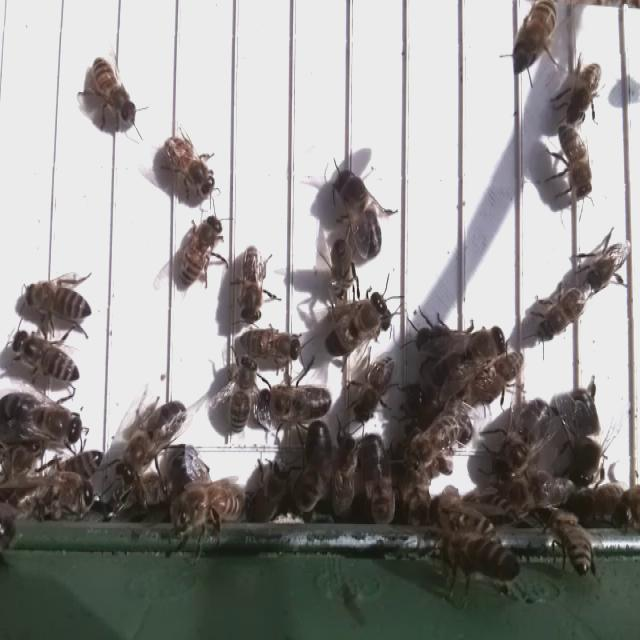Drone: (112, 397, 190, 490), (487, 395, 555, 484), (0, 389, 87, 450), (320, 288, 390, 362), (336, 165, 385, 263), (563, 381, 603, 492), (256, 380, 333, 430)
Worker: (12, 330, 82, 386), (88, 55, 140, 126), (348, 356, 397, 429), (163, 133, 217, 199), (554, 121, 596, 204), (177, 216, 222, 292), (534, 285, 588, 348), (22, 280, 98, 324), (562, 58, 605, 126), (237, 324, 305, 365), (583, 234, 630, 293), (235, 239, 266, 328), (223, 358, 257, 437)
